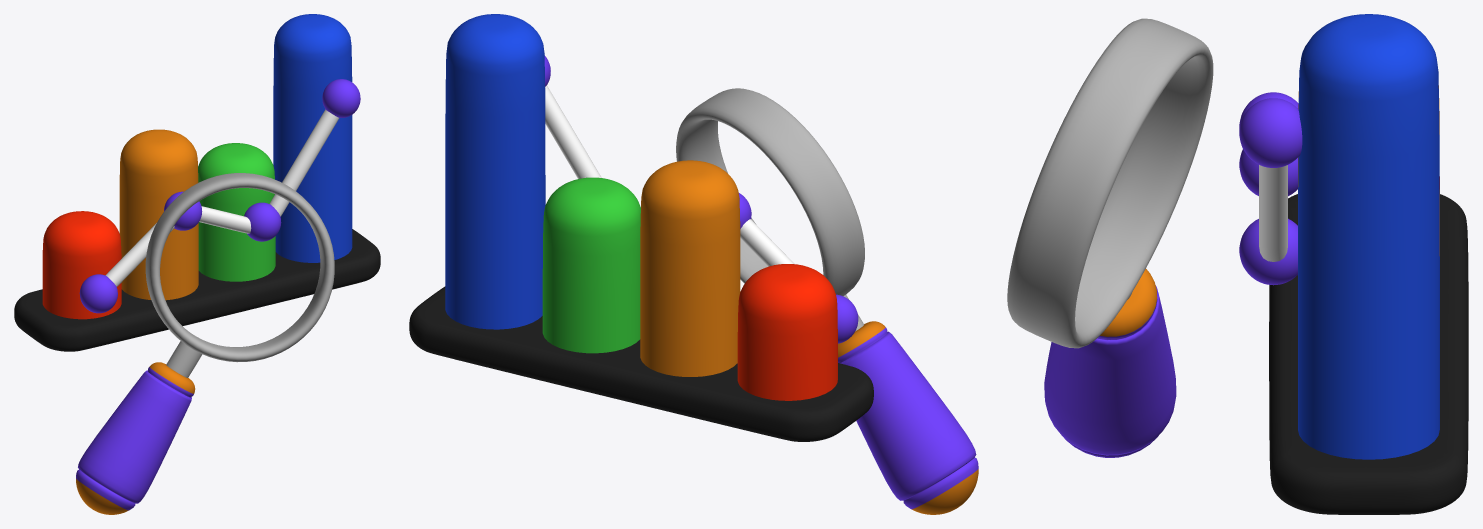
The model's file is Analysis.glb.
The picture shows the model from 3 angles, left to right: view 1: azimuth 30°, elevation 25°; view 2: azimuth 150°, elevation 25°; view 3: azimuth 270°, elevation 25°; orthographic projection. The views are drawn at different scales.
Parts seen in each view (by area): view 1: Cylinder, Cube, Cylinder.002, Circle, Sphere.001, Vert, Cylinder.001; view 2: Cylinder, Cube, Cylinder.002, Circle, Vert, Sphere.001; view 3: Cylinder, Circle, Cube, Cylinder.002, Sphere.001, Vert.
Part boxes in pixels (left/top/right/bottom): Cylinder: left=42, top=14, right=352, bottom=319; Cube: left=14, top=229, right=380, bottom=351; Cylinder.002: left=76, top=362, right=195, bottom=514; Circle: left=145, top=173, right=334, bottom=362; Sphere.001: left=79, top=79, right=360, bottom=313; Vert: left=105, top=109, right=339, bottom=286; Cylinder.001: left=166, top=341, right=202, bottom=377; Cylinder: left=445, top=14, right=837, bottom=400; Cube: left=409, top=286, right=873, bottom=441; Cylinder.002: left=838, top=321, right=978, bottom=514; Circle: left=676, top=88, right=864, bottom=296; Vert: left=545, top=85, right=794, bottom=266; Sphere.001: left=544, top=55, right=858, bottom=343; Cylinder: left=1298, top=14, right=1439, bottom=459; Circle: left=1007, top=18, right=1213, bottom=348; Cube: left=1269, top=194, right=1468, bottom=514; Cylinder.002: left=1044, top=269, right=1176, bottom=457; Sphere.001: left=1239, top=92, right=1302, bottom=285; Vert: left=1259, top=165, right=1287, bottom=261.
Bounding box in the file's own units: 5.78 × 5.72 × 3.6.
